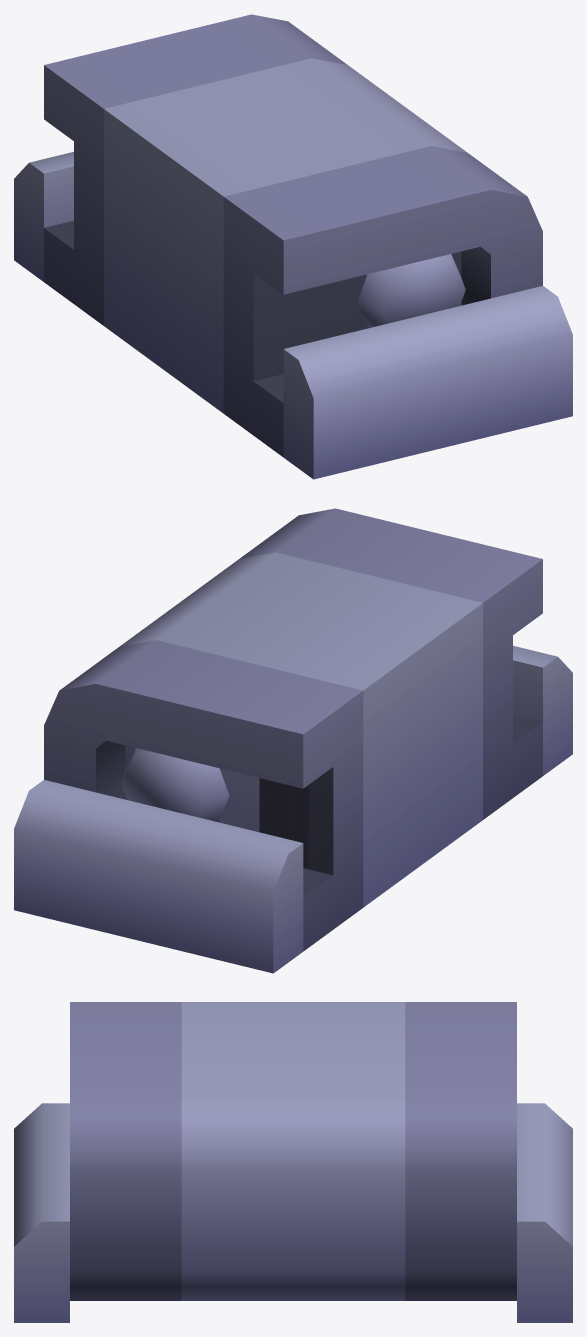
Rendered from kenney-conveyor-conveyor-long-stripe-sides-part-end.glb.
3 views of the same model, one above another, from view 1: azimuth 30°, elevation 25°; view 2: azimuth 150°, elevation 25°; view 3: azimuth 270°, elevation 25° (orthographic). The views are drawn at different scales.
Parts seen in each view (by area): view 1: conveyor-long-stripe-sides-part-end; view 2: conveyor-long-stripe-sides-part-end; view 3: conveyor-long-stripe-sides-part-end.
Boxes of the visible parts, x1,y1,x2,y2 form: conveyor-long-stripe-sides-part-end: (14,14,572,479); conveyor-long-stripe-sides-part-end: (14,508,572,973); conveyor-long-stripe-sides-part-end: (14,1002,572,1322).
Bounding box in the file's own units: 0.5001 × 0.3999 × 1.
Materials: 1 (1 with a texture image).
